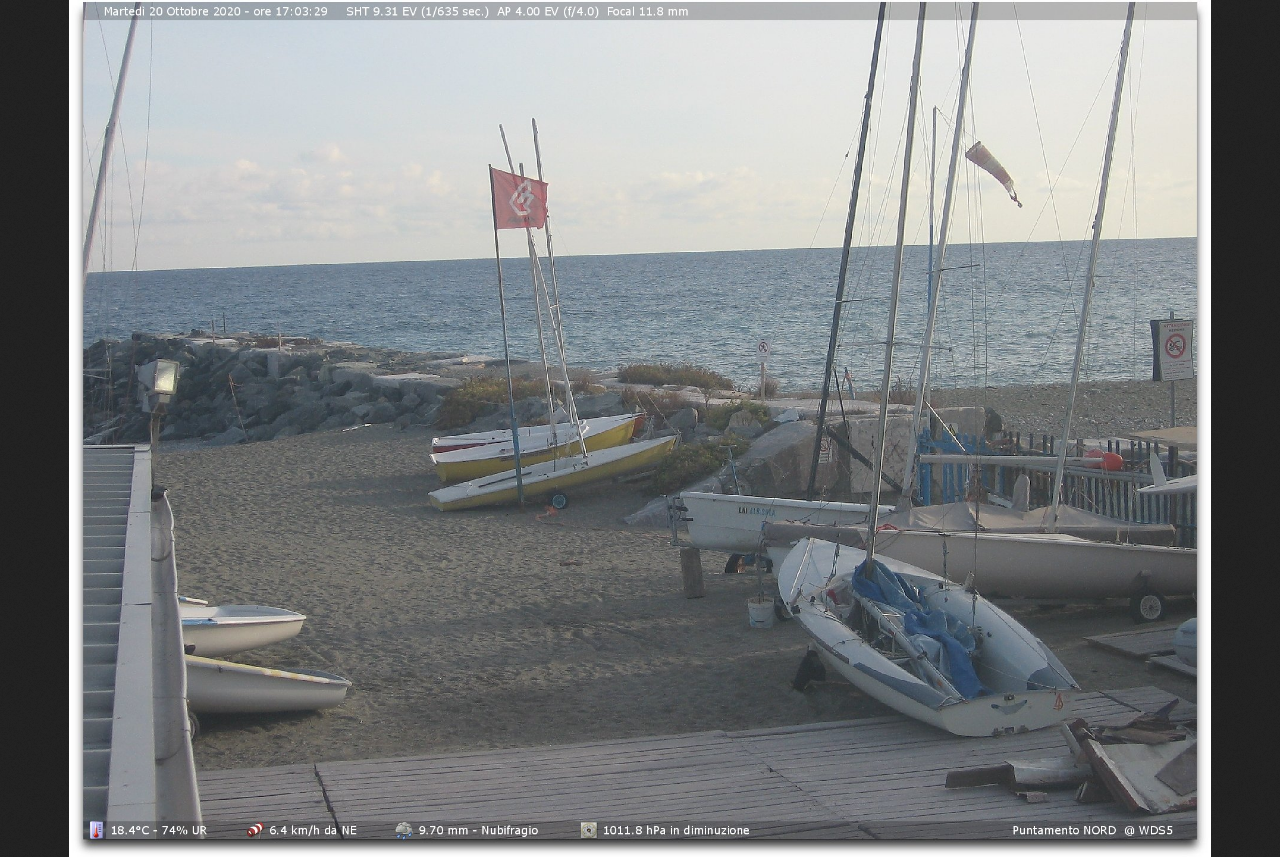yes: (480, 162, 557, 237)
